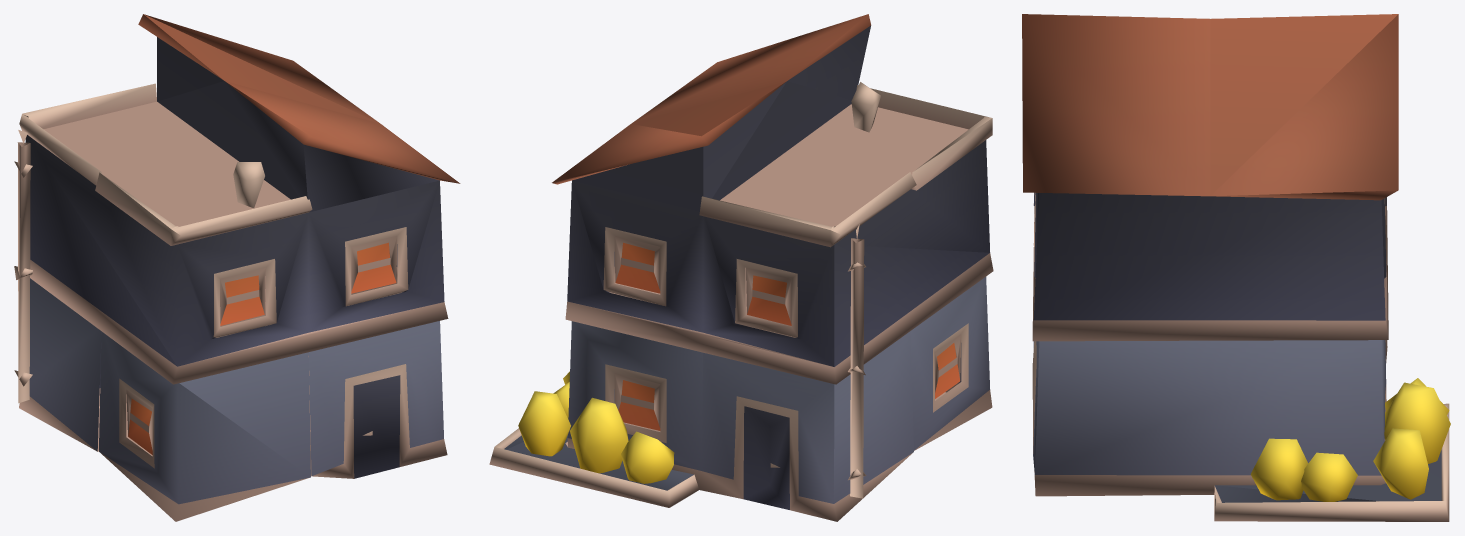
File: casa_l.fbx
3 renders of one model, left to right at view 1: azimuth 30°, elevation 25°; view 2: azimuth 150°, elevation 25°; view 3: azimuth 270°, elevation 25°, orthographic. The views are drawn at different scales.
Visible parts, largest first — view 1: casa_l; view 2: casa_l; view 3: casa_l.
Part boxes in pixels (x1,y1,x2,y2): casa_l: (14,14,460,521); casa_l: (489,14,993,521); casa_l: (1022,14,1450,521).
Size of the model in its own units: 1.02 by 1.04 by 1.
